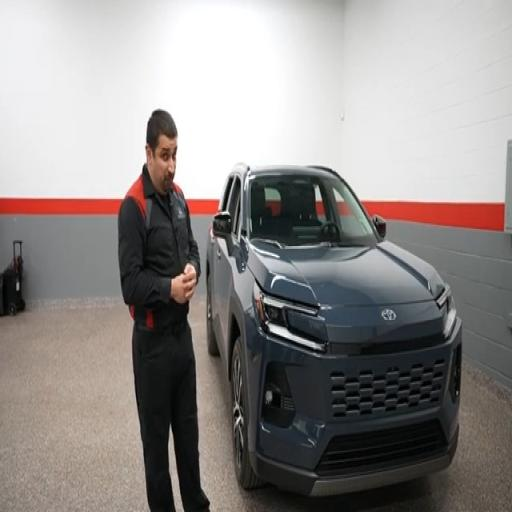bumper: (249, 319, 461, 496), (252, 429, 458, 496)
door: (215, 238, 233, 347), (210, 235, 225, 344)
emblem: (381, 309, 395, 321)
fog_light: (262, 363, 295, 428), (450, 345, 461, 402), (265, 390, 273, 405)
grille: (316, 420, 447, 476), (331, 359, 445, 416)
headlight: (254, 284, 326, 351), (436, 285, 456, 338)
hood: (248, 241, 443, 305)
side_mirror: (212, 211, 233, 254), (212, 211, 231, 237), (373, 215, 386, 237)
tire: (231, 338, 263, 489), (207, 275, 219, 355)
wheel: (320, 221, 340, 237), (8, 303, 16, 315)
window: (228, 177, 240, 234), (220, 177, 234, 210)
windshield: (249, 174, 376, 246)
